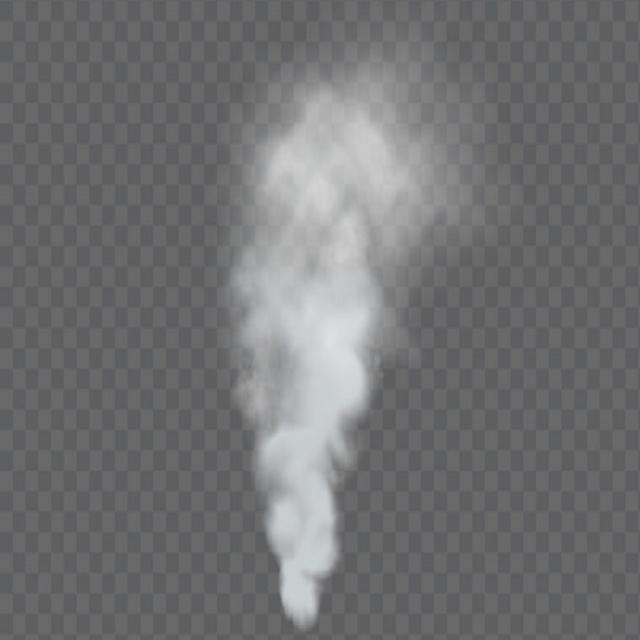Smoke: (226, 66, 430, 640)
